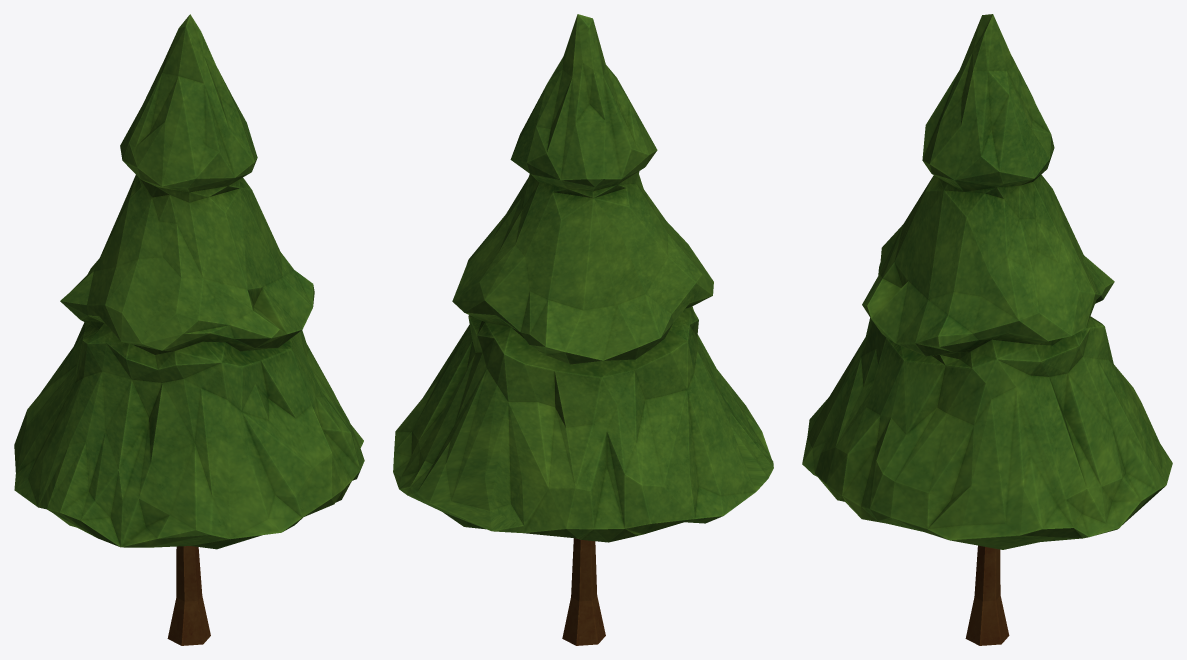
File: TreeA-Ep3.fbx
The picture shows the model from 3 angles, left to right: view 1: azimuth 30°, elevation 25°; view 2: azimuth 150°, elevation 25°; view 3: azimuth 270°, elevation 25°; orthographic projection.
Visible parts, largest first — view 1: TreeA; view 2: TreeA; view 3: TreeA.
Part boxes in pixels (<box>): TreeA: <box>14,14,364,645</box>; TreeA: <box>393,14,773,645</box>; TreeA: <box>802,14,1172,645</box>.
Size of the model in its own units: 2075 by 3779 by 2032.
